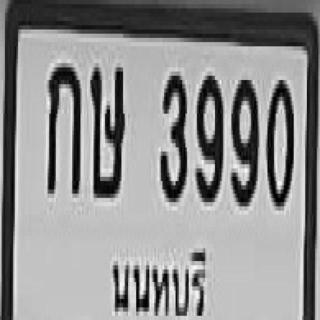A01: (46, 59, 79, 190)
A39: (88, 63, 123, 194)
N00: (266, 76, 292, 202)
N03: (159, 68, 185, 198)
N09: (194, 72, 222, 198), (230, 76, 256, 202)
P37: (110, 238, 210, 320)
